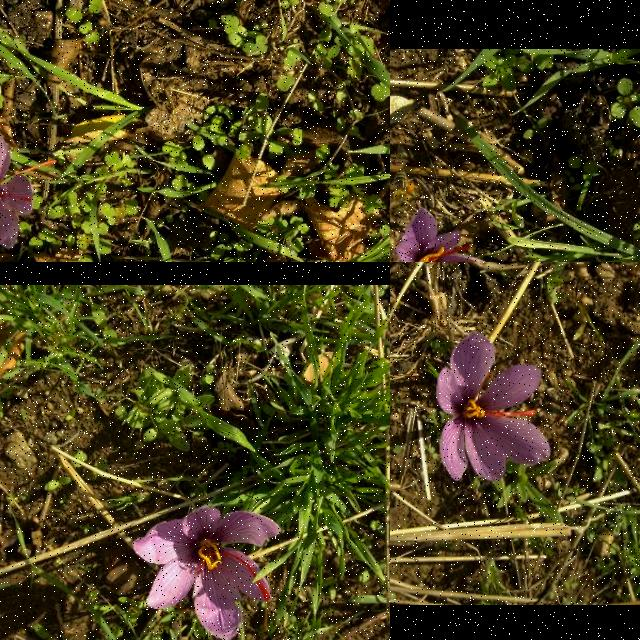flower: (132, 509, 282, 640), (435, 332, 551, 482), (0, 130, 56, 262), (394, 207, 494, 262)
